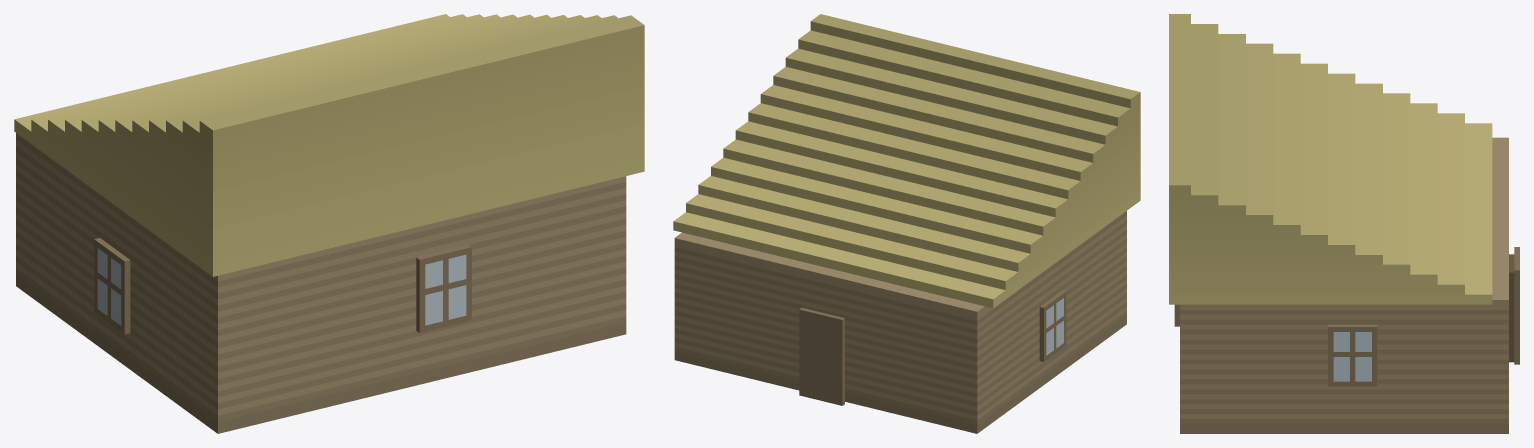
The model's file is barco_encallado_04.glb.
The picture shows the model from 3 angles, left to right: view 1: azimuth 30°, elevation 25°; view 2: azimuth 150°, elevation 25°; view 3: azimuth 270°, elevation 25°; orthographic projection. The views are drawn at different scales.
Visible parts, largest first — view 1: barco_encallado_04; view 2: barco_encallado_04; view 3: barco_encallado_04.
Boxes of the visible parts, box(x1,y1,x2,y2) form: barco_encallado_04: box(14, 14, 644, 433); barco_encallado_04: box(673, 14, 1140, 433); barco_encallado_04: box(1169, 14, 1519, 433).
Size of the model in its own units: 7.4 by 5.1 by 6.4.
